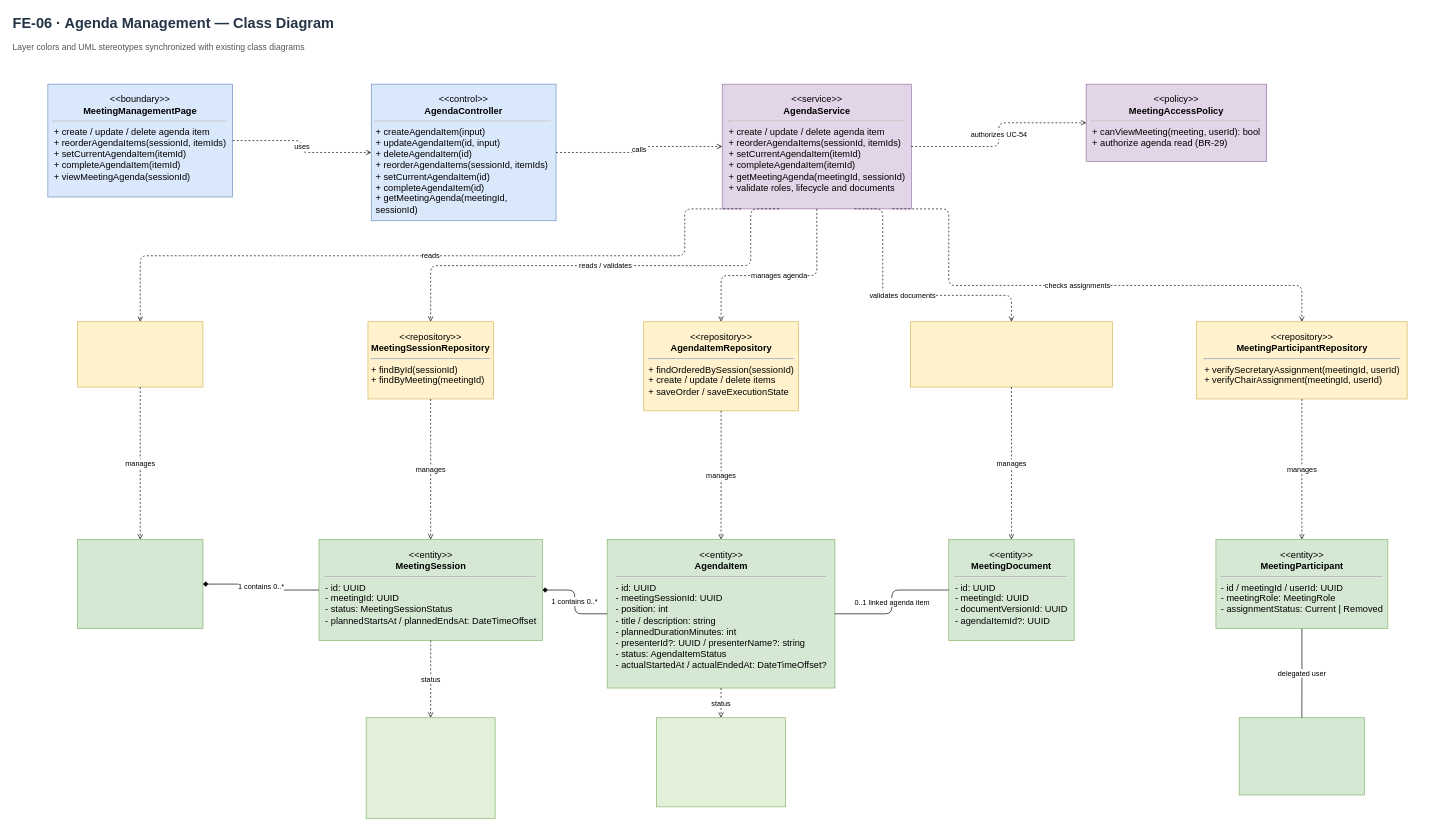
Image size: 1441x830. Some labels were removed from this diagram. The shapes that lost their labels are listed below. From the top down, each one's box as (x1, y1, x2, y2) in pixels, then its label:
(77, 321, 203, 387): <<repository>> MeetingRepository + findById(meetingId)
(910, 321, 1112, 387): <<repository>> DocumentRepository + findAvailableByIds(meetingId, documentIds)
(77, 539, 203, 629): <<entity>> Meeting - id: UUID - title: string - status: MeetingStatus
(365, 717, 495, 819): <<enumeration>> MeetingSessionStatus Planned InProgress Completed Cancelled
(656, 717, 786, 807): <<enumeration>> AgendaItemStatus Pending InProgress Done
(1238, 717, 1365, 795): <<entity>> User - id: UUID - fullName: string
